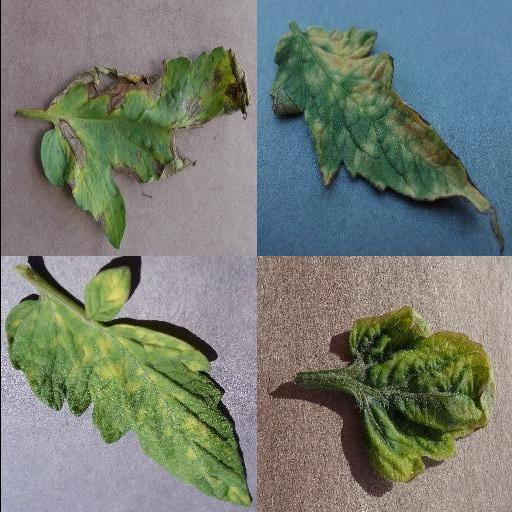Early Blight: (35, 47, 251, 250)
Leaf Mold: (3, 268, 253, 506), (269, 29, 493, 215)
Yellow Leaf Curl Virus: (347, 306, 497, 484)
